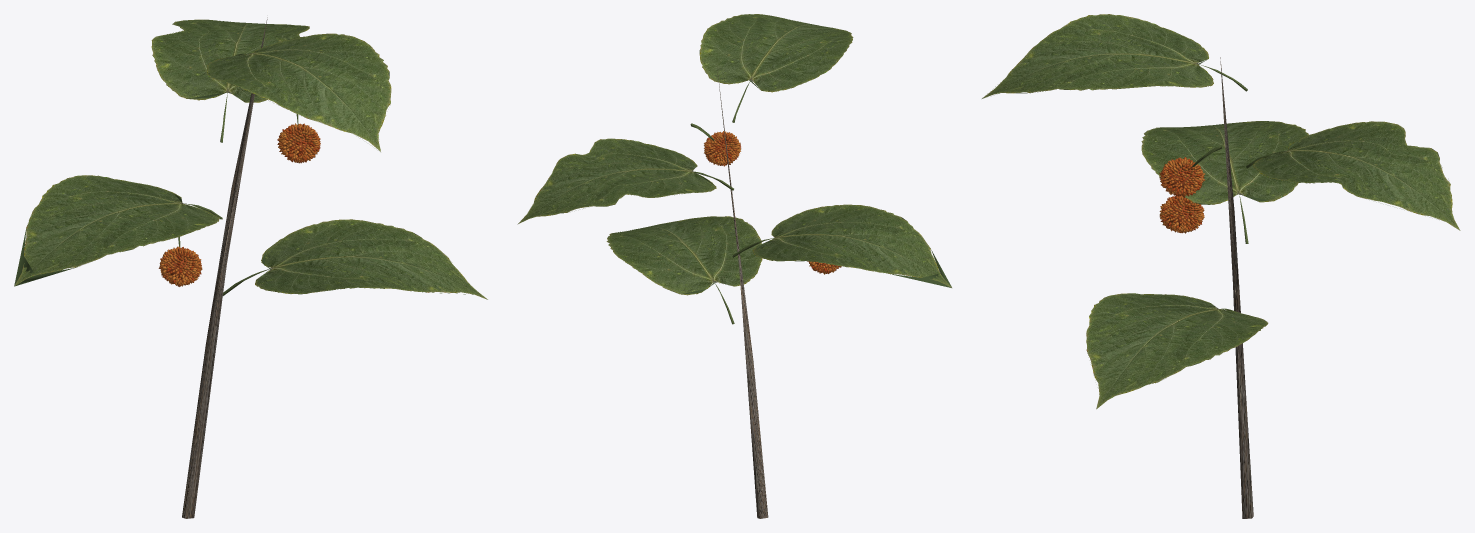
Rendered from broussonetia-macro.glb.
The picture shows the model from 3 angles, left to right: view 1: azimuth 30°, elevation 25°; view 2: azimuth 150°, elevation 25°; view 3: azimuth 270°, elevation 25°; orthographic projection. The views are drawn at different scales.
Visible parts, largest first — view 1: leaf, bark, fruit-detail, leaf-edge; view 2: leaf, bark, fruit-detail, leaf-edge, stem; view 3: leaf, bark, fruit-detail, fruit.
Part boxes in pixels (left/top/right/bottom): leaf: left=14, top=19, right=487, bottom=299; bark: left=182, top=17, right=267, bottom=518; fruit-detail: left=158, top=123, right=320, bottom=286; leaf-edge: left=14, top=20, right=473, bottom=294; leaf: left=517, top=14, right=951, bottom=295; bark: left=717, top=70, right=768, bottom=518; fruit-detail: left=704, top=131, right=841, bottom=274; leaf-edge: left=530, top=14, right=951, bottom=294; stem: left=690, top=80, right=773, bottom=324; leaf: left=982, top=14, right=1460, bottom=409; bark: left=1220, top=57, right=1253, bottom=518; fruit-detail: left=1159, top=157, right=1205, bottom=233; fruit: left=1164, top=163, right=1196, bottom=227.
Size of the model in its own units: 0.3726 by 0.4206 by 0.3683.
6 materials, 5 textured.
